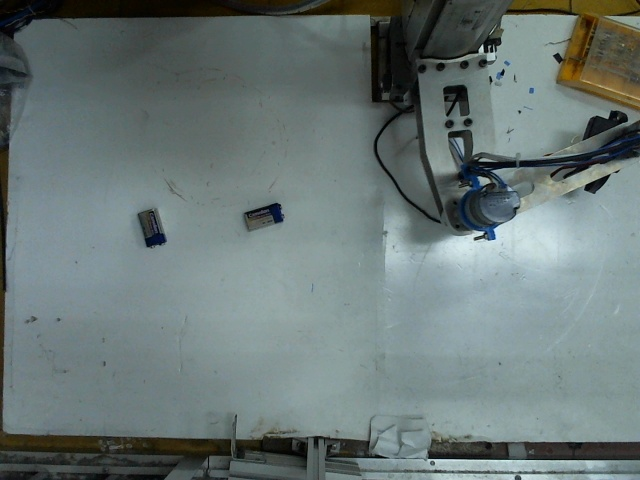battery: (129, 203, 167, 244), (240, 200, 287, 229)
